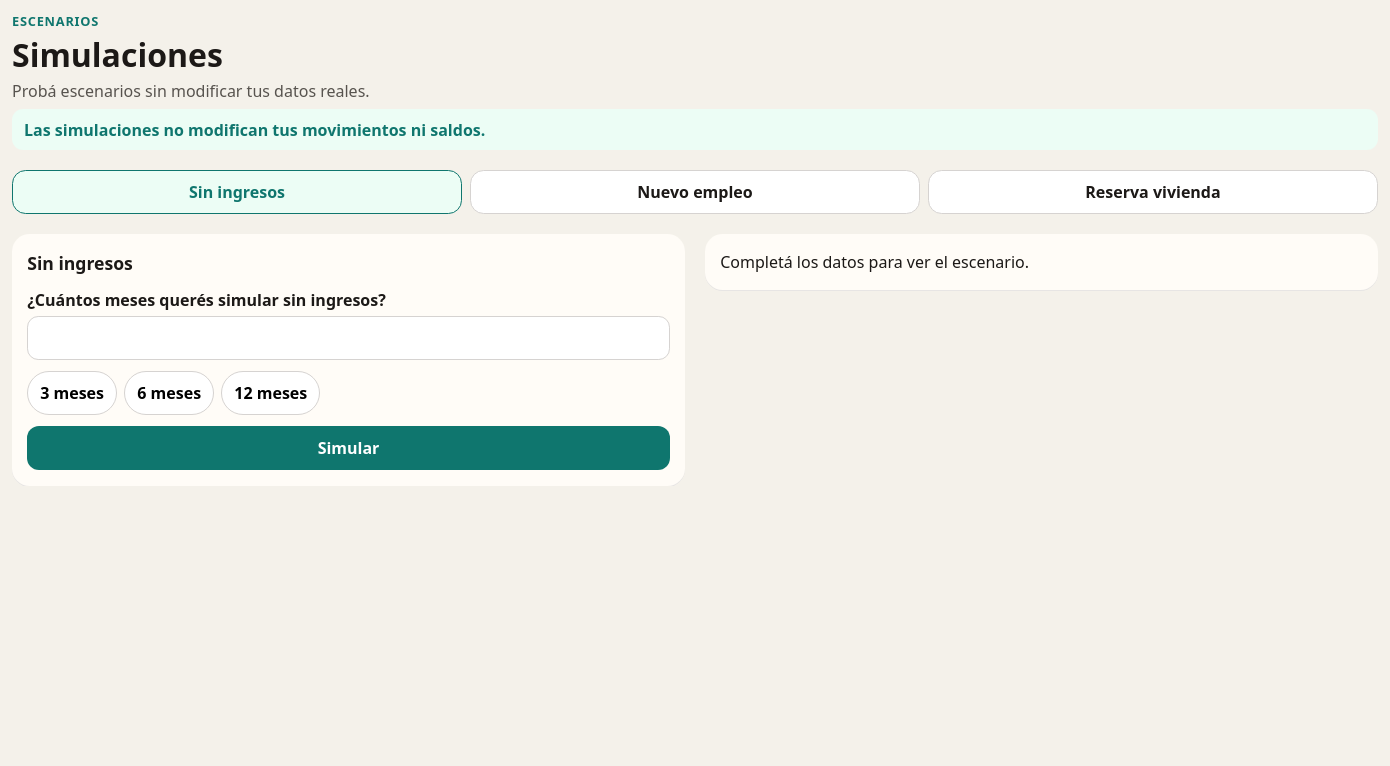
Test: SimulationsPage › submits months without income and renders baseline, remaining, runway and depletion
The width and height of the screenshot is (1390, 766).
Type "6" into the field labelled "¿Cuántos meses querés simular sin ingresos?" at [348, 338], box [27,316,670,360]
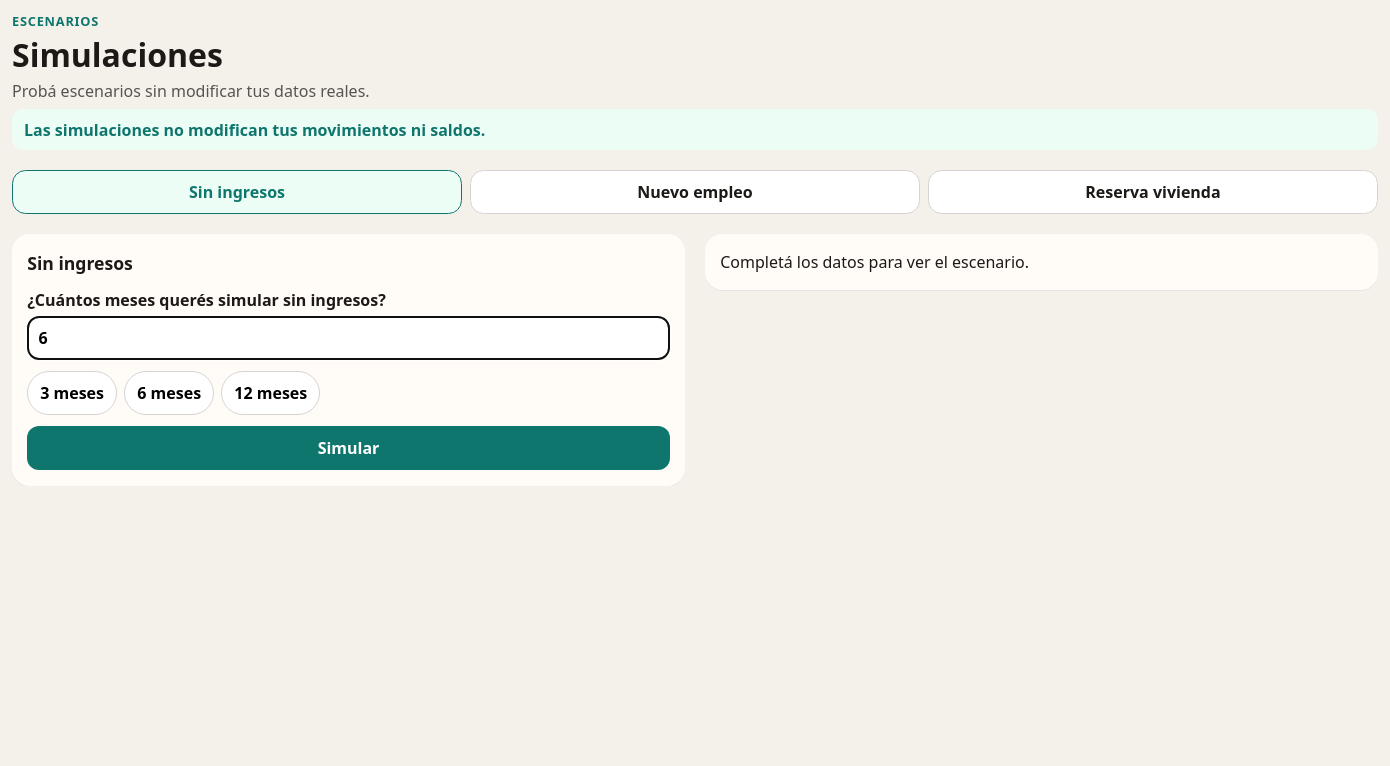
Click the button "Simular" at [348, 448], box [27,426,670,470]
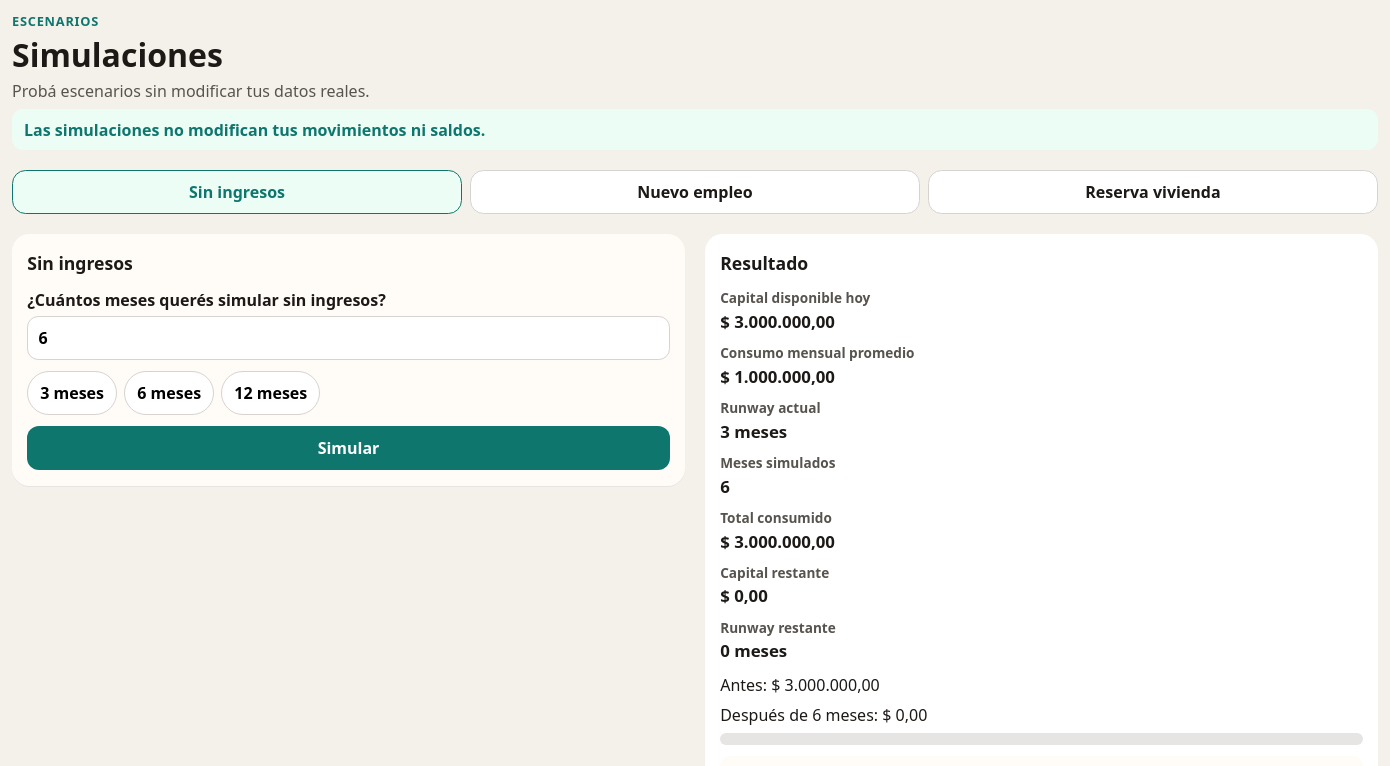
Expected: the text "$ 3.000.000,00" below "Capital disponible hoy" is shown, [720,310,835,333]
Expected: the text "$ 1.000.000,00" is shown, [720,365,835,388]
Expected: the text "0 meses" is shown, [720,639,787,662]
